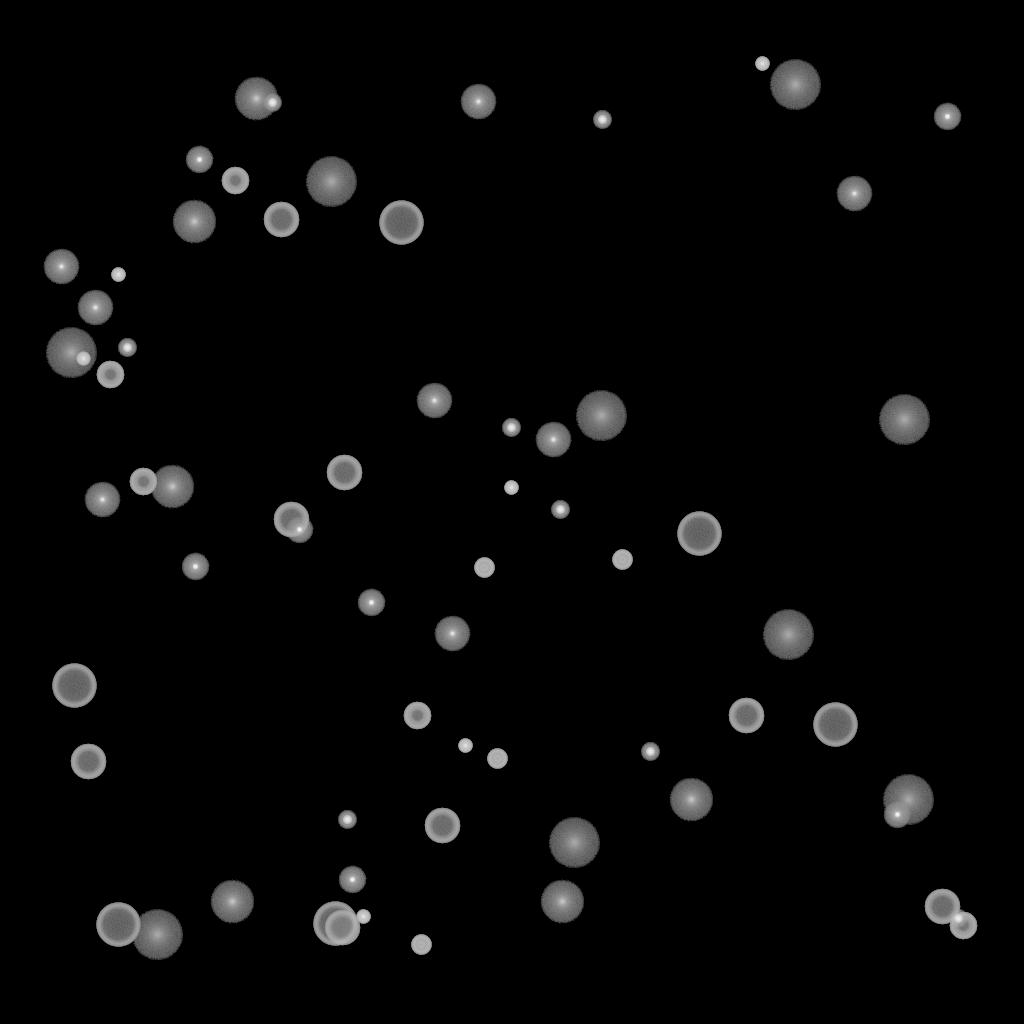depth:-10: (185, 146, 213, 174), (285, 516, 313, 544), (357, 589, 385, 617), (883, 801, 911, 829), (338, 866, 366, 894), (933, 103, 961, 131), (181, 553, 209, 581)
depth:-20: (593, 111, 611, 129), (949, 910, 967, 928), (502, 419, 520, 437), (338, 811, 356, 829), (641, 743, 659, 761), (551, 501, 569, 519), (118, 339, 136, 357), (263, 94, 281, 112)
depth:-30: (755, 57, 769, 71), (111, 268, 125, 282), (504, 481, 518, 495), (356, 910, 370, 924), (458, 739, 472, 753), (76, 352, 90, 366)
depth:-40: (487, 749, 507, 769), (411, 935, 431, 955), (612, 550, 632, 570), (474, 558, 494, 578)
depth:-50: (96, 361, 124, 389), (221, 167, 249, 195), (129, 468, 157, 496), (403, 702, 431, 730), (949, 912, 977, 940)
depth:-60: (263, 202, 299, 238), (70, 744, 106, 780), (728, 698, 764, 734), (273, 502, 309, 538), (326, 455, 362, 491), (324, 910, 360, 946), (924, 889, 960, 925), (424, 808, 460, 844)
depth:-70: (52, 664, 96, 708), (96, 903, 140, 947), (313, 902, 357, 946), (677, 512, 721, 556), (379, 201, 423, 245), (813, 703, 857, 747)
depth:0: (535, 422, 571, 458), (416, 383, 452, 419), (460, 84, 496, 120), (77, 290, 113, 326), (434, 616, 470, 652), (836, 176, 872, 212), (43, 249, 79, 285), (84, 482, 120, 518)
depth:10: (172, 200, 216, 244), (210, 880, 254, 924), (669, 778, 713, 822), (150, 465, 194, 509), (234, 77, 278, 121), (540, 880, 584, 924)
depth:20: (131, 910, 183, 960), (769, 60, 821, 110), (882, 775, 934, 825), (878, 395, 930, 445), (762, 610, 814, 660), (575, 391, 627, 441), (45, 328, 97, 378), (548, 818, 600, 868), (305, 157, 357, 207)
